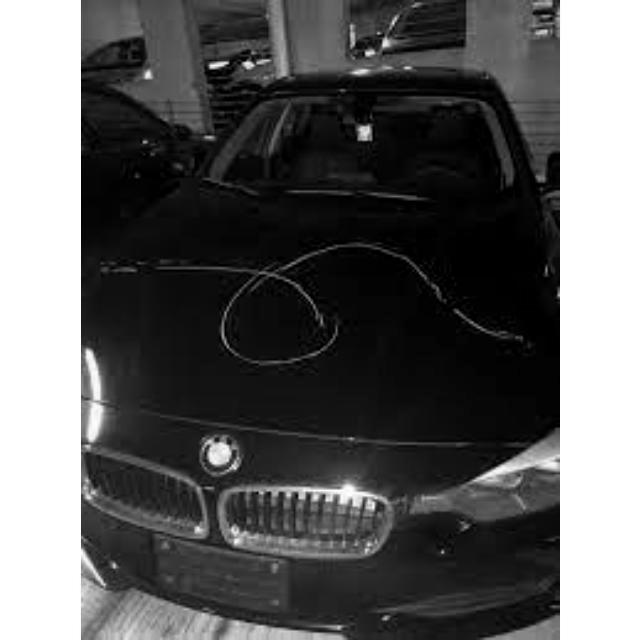bonnet-dent: (88, 198, 557, 489)
